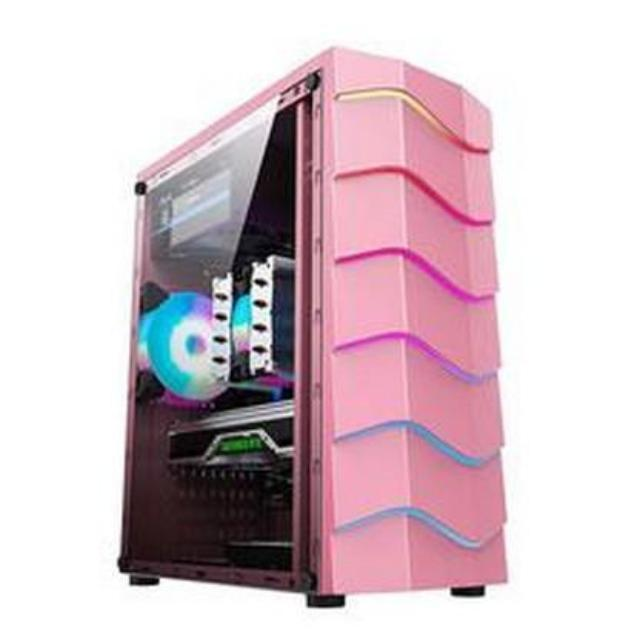CPU_Fan: (211, 252, 297, 384)
GPU: (156, 394, 296, 477)
